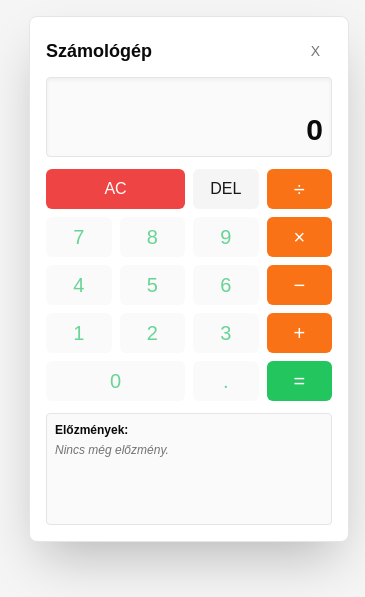
Calculator Component › performs addition correctly
Click the button "2".
click(152, 333)  # box [120, 313, 185, 353]
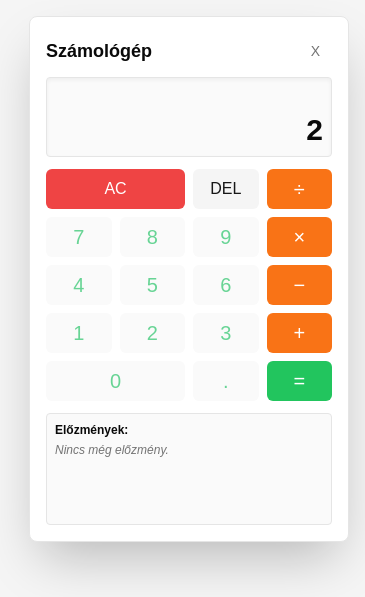
Click the button "+".
click(299, 333)  # box [266, 313, 332, 353]
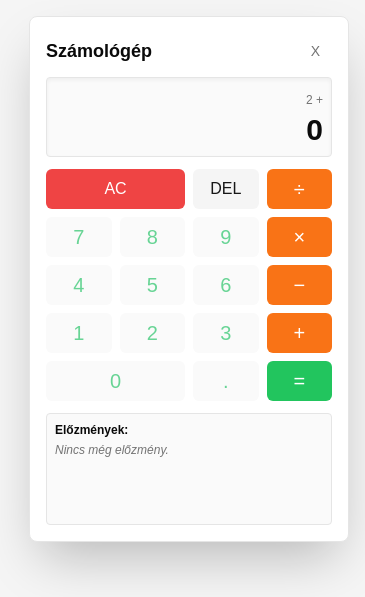
Click the button "3".
click(226, 333)  # box [193, 313, 258, 353]
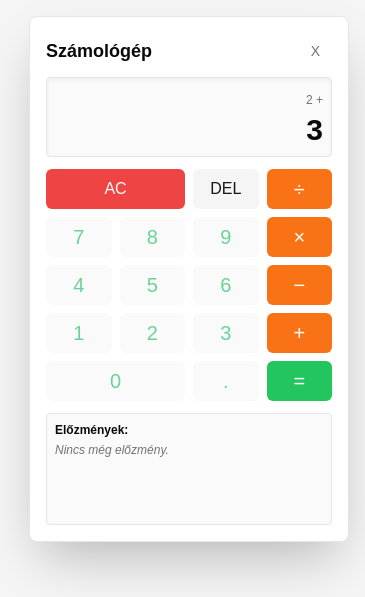
Click the button "=".
click(299, 381)  # box [266, 361, 332, 401]
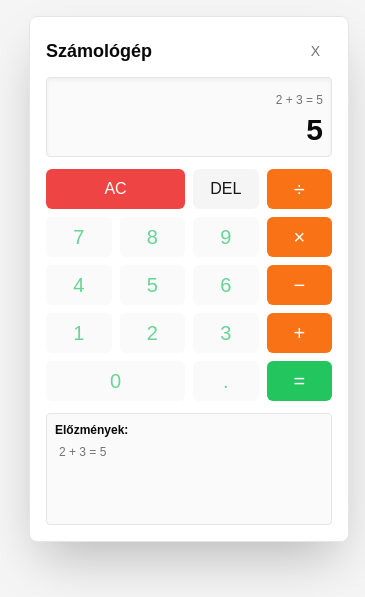
Expected: the text with class "font-bold" reads "5", [306, 113, 323, 146]
Expected: the 1st text with class "truncate" reads "2 + 3 = 5", [276, 93, 323, 107]
